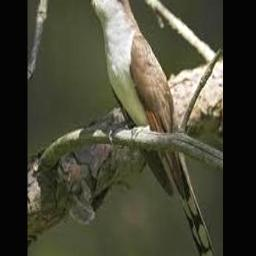Cuckoo: (76, 0, 215, 256)
